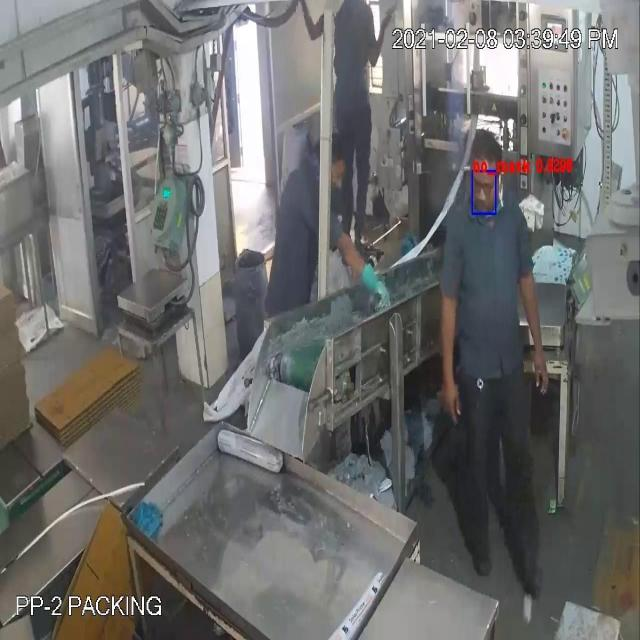No_Gloves: (44, 100, 534, 354)
